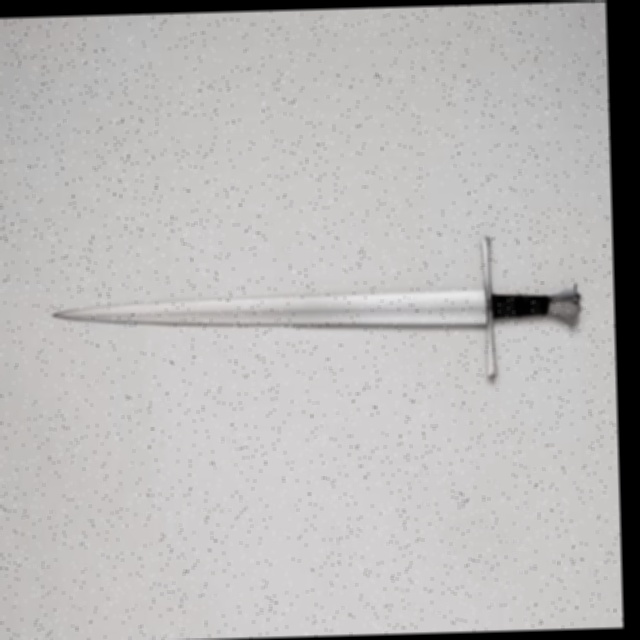Sharp-Object: (51, 277, 589, 360)
